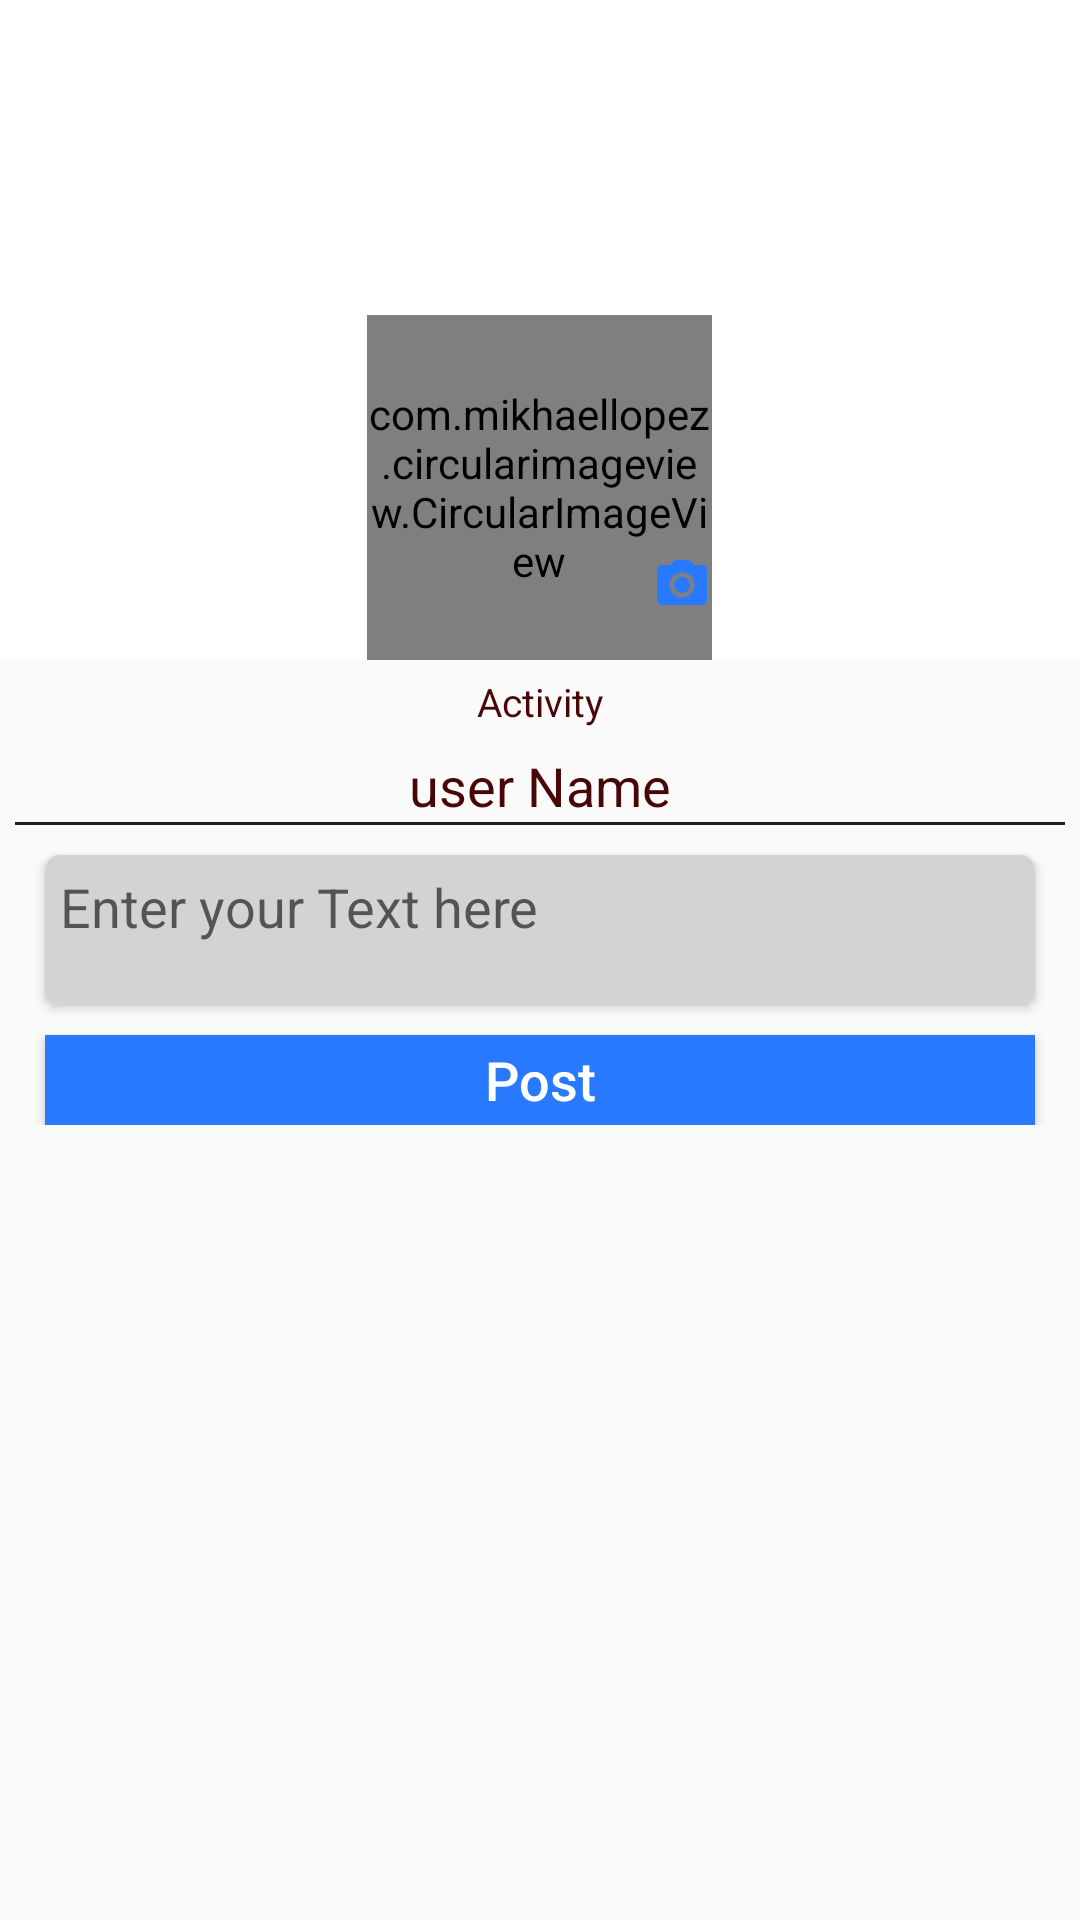

Named icons in this screenshot (1080px x 1920px) and their bounding boxes, (x1, y1, x2, y2):
photo camera: (657, 560, 707, 605)
